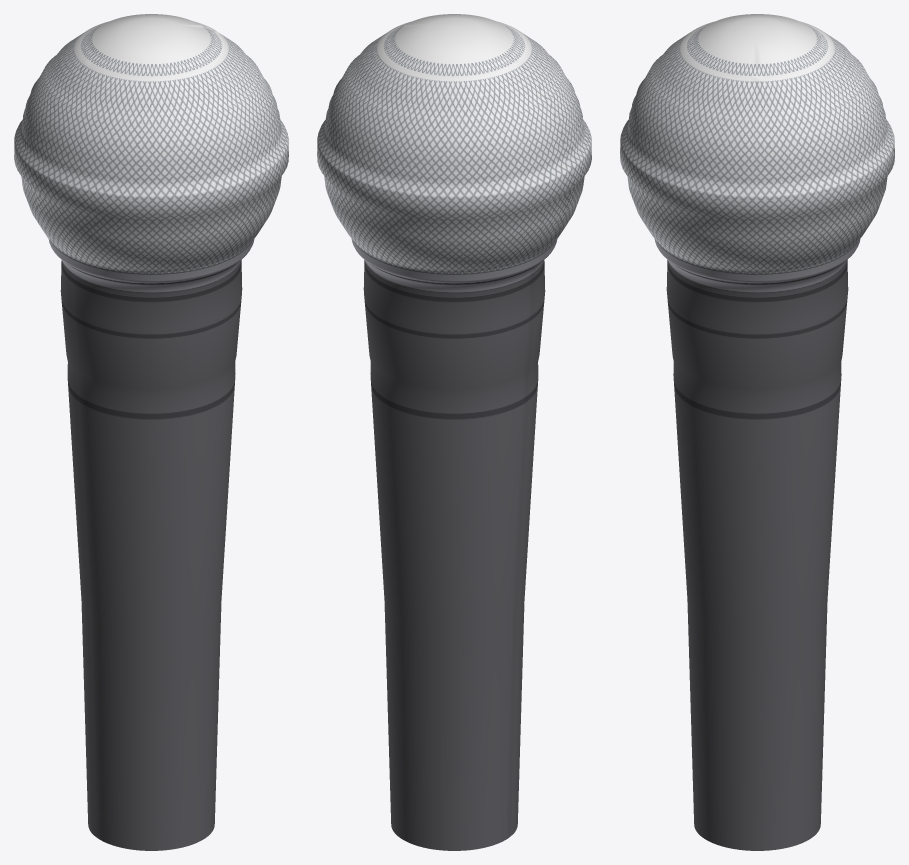
Rendered from shure-beta-58a.glb.
3 views of the same model, side by side, from view 1: azimuth 30°, elevation 25°; view 2: azimuth 150°, elevation 25°; view 3: azimuth 270°, elevation 25° (orthographic).
Visible parts, largest first — view 1: shure-beta-58a-body; view 2: shure-beta-58a-body; view 3: shure-beta-58a-body.
Part boxes in pixels (bbox=[...]): shure-beta-58a-body: bbox=[14, 14, 288, 850]; shure-beta-58a-body: bbox=[317, 14, 591, 850]; shure-beta-58a-body: bbox=[620, 14, 894, 850].
Size of the model in its own units: 0.05 by 0.16 by 0.05.
Materials: 1 (1 with a texture image).
